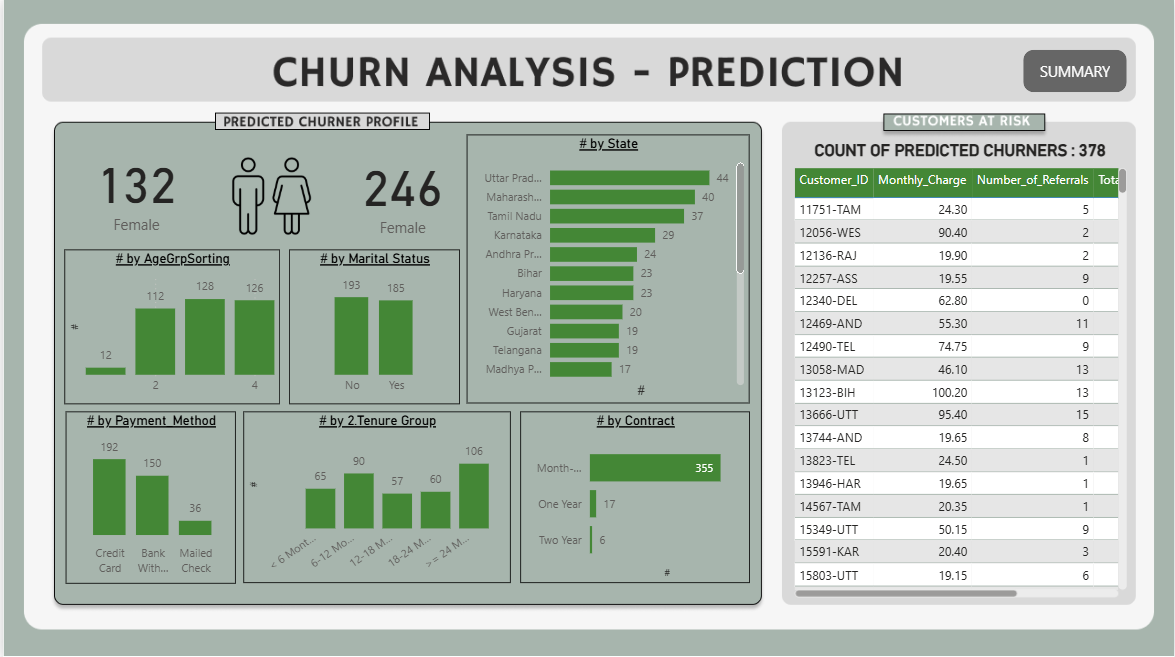

What the dashboard file says about the page in this screenshot:
{"tool":"powerbi","page":{"name":"Prediction","canvas":[1280,720],"ordinal":1},"visuals":[{"type":"tableEx","fields":{"Values":["Predictions.Customer_ID","Predictions.Monthly_Charge","Predictions.Number_of_Referrals","Predictions.Total_Refunds","Predictions.Total_Revenue"]},"box":[860,178,374,480],"z":0},{"type":"card","fields":{"Values":["tbl_measures.Title Predicted Churner"]},"box":[864,150,364,28],"z":1000},{"type":"card","fields":{"Values":["tbl_measures.Count Predicted Churner"]},"box":[68,148,154,116],"z":2000},{"type":"clusteredColumnChart","fields":{"Category":["mapping_AgeGroup.AgeGrpSorting"],"Y":["CountNonNull(Predictions.Customer_ID)"]},"box":[67.8,272.2,235.6,168.9],"z":3000},{"type":"card","fields":{"Values":["tbl_measures.Count Predicted Churner"]},"box":[366,152,142,116],"z":4000},{"type":"clusteredColumnChart","fields":{"Category":["Predictions.Payment_Method"],"Y":["CountNonNull(Predictions.Customer_ID)"]},"box":[68,450,186,188],"z":5000},{"type":"clusteredColumnChart","fields":{"Category":["Predictions.Married"],"Y":["CountNonNull(Predictions.Customer_ID)"]},"box":[312.2,272.2,186.7,168.9],"z":6000},{"type":"clusteredColumnChart","fields":{"Category":["mapping_TenureGrp.2.Tenure Group "],"Y":["CountNonNull(Predictions.Customer_ID)"]},"box":[263.3,450,292.2,187.8],"z":7000},{"type":"clusteredBarChart","fields":{"Category":["Predictions.State"],"Y":["CountNonNull(Predictions.Customer_ID)"]},"box":[507.2,147.5,309.3,293.7],"z":8000},{"type":"clusteredBarChart","fields":{"Category":["Predictions.Contract"],"Y":["CountNonNull(Predictions.Customer_ID)"]},"box":[565.5,450.3,251,187.6],"z":9000},{"type":"image","box":[222,164,144,100],"z":10000},{"type":"shape","box":[1115.6,54.4,113.3,46.7],"z":11000}]}

Visuals, with their boxes in screenshot pixels (x1, y1, x2, y2), scaled from the page's 1280x720 canvas onto the 1175x657 screenshot:
tableEx - Predictions.Customer_ID x Predictions.Monthly_Charge: region(789, 162, 1133, 600)
card - tbl_measures.Title Predicted Churner: region(793, 137, 1127, 162)
card - tbl_measures.Count Predicted Churner: region(62, 135, 204, 241)
clusteredColumnChart - mapping_AgeGroup.AgeGrpSorting x CountNonNull(Predictions.Customer_ID): region(62, 248, 279, 403)
card - tbl_measures.Count Predicted Churner: region(336, 139, 466, 245)
clusteredColumnChart - Predictions.Payment_Method x CountNonNull(Predictions.Customer_ID): region(62, 411, 233, 582)
clusteredColumnChart - Predictions.Married x CountNonNull(Predictions.Customer_ID): region(287, 248, 458, 403)
clusteredColumnChart - mapping_TenureGrp.2.Tenure Group  x CountNonNull(Predictions.Customer_ID): region(242, 411, 510, 582)
clusteredBarChart - Predictions.State x CountNonNull(Predictions.Customer_ID): region(466, 135, 750, 403)
clusteredBarChart - Predictions.Contract x CountNonNull(Predictions.Customer_ID): region(519, 411, 750, 582)
image: region(204, 150, 336, 241)
shape: region(1024, 50, 1128, 92)
